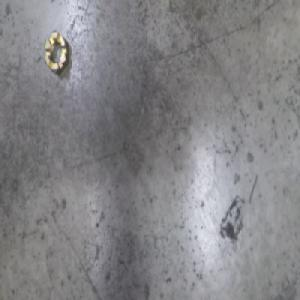Nut: (43, 29, 70, 78)
